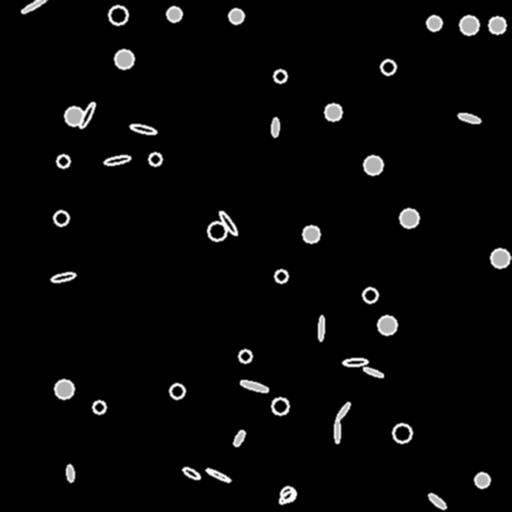pseudomonas: (77, 100, 97, 130), (217, 210, 239, 236), (205, 467, 231, 483), (240, 379, 268, 393), (21, 0, 47, 14), (427, 492, 447, 510), (103, 154, 131, 166), (335, 401, 351, 421), (181, 465, 201, 481), (130, 123, 156, 135), (457, 112, 481, 124), (51, 271, 75, 283), (278, 489, 294, 505), (232, 429, 246, 447), (363, 366, 383, 378), (343, 358, 367, 366), (66, 464, 74, 482), (318, 316, 324, 340), (334, 420, 340, 443), (272, 117, 278, 137)
synechocystis: (115, 50, 133, 68), (393, 424, 411, 442), (400, 209, 418, 227), (55, 380, 73, 398), (65, 107, 83, 125), (109, 6, 127, 24), (208, 222, 226, 240), (491, 249, 509, 267), (378, 316, 396, 334), (460, 16, 478, 34), (364, 156, 382, 174), (325, 104, 341, 120), (489, 17, 505, 33), (303, 226, 319, 242), (272, 398, 288, 414), (167, 7, 181, 21), (281, 487, 295, 501), (475, 473, 489, 487), (170, 384, 184, 398), (427, 16, 441, 30), (363, 288, 377, 302), (54, 211, 68, 225), (229, 9, 243, 23), (381, 60, 395, 74), (93, 401, 105, 413), (57, 155, 69, 167), (274, 70, 286, 82), (239, 350, 251, 362), (275, 270, 287, 282), (149, 153, 161, 165)
